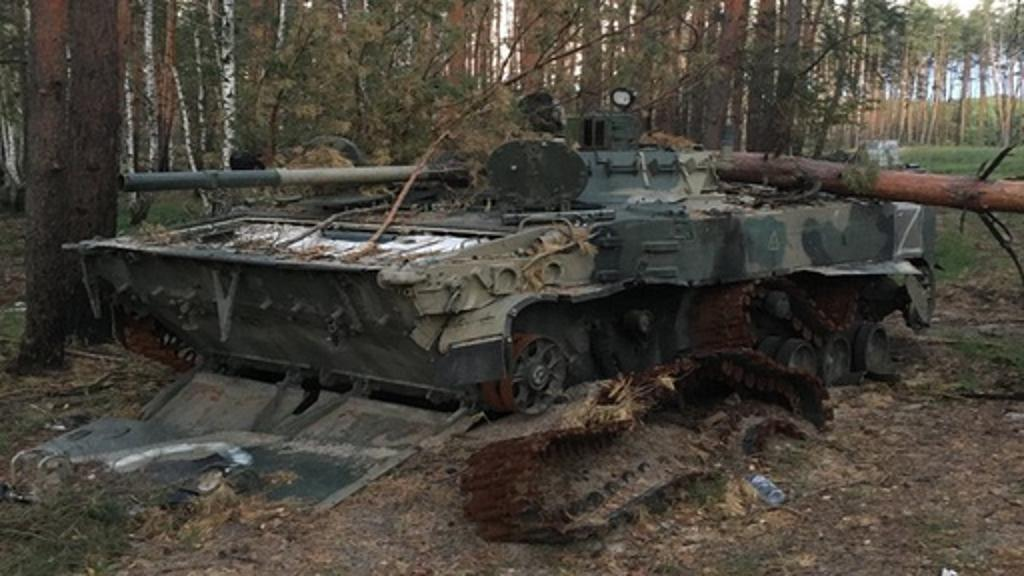APC-IFV: (62, 96, 936, 444)
